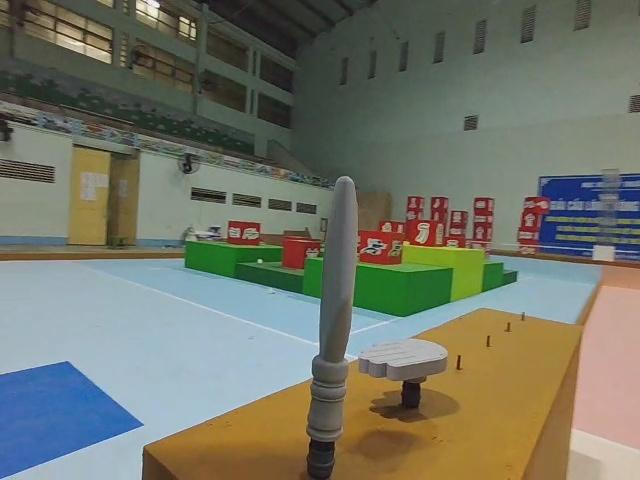Hand: (357, 337, 451, 407)
Sph: (296, 177, 358, 480)
